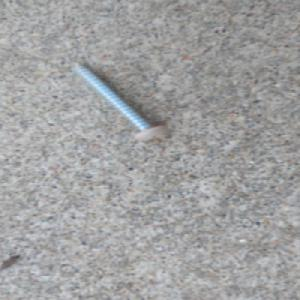Screw: (65, 56, 170, 142)
